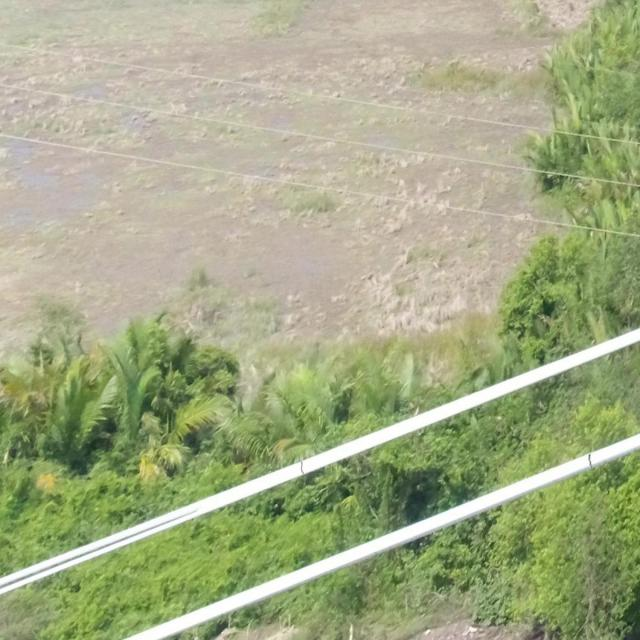crack: (588, 453, 593, 468), (300, 461, 304, 474)
